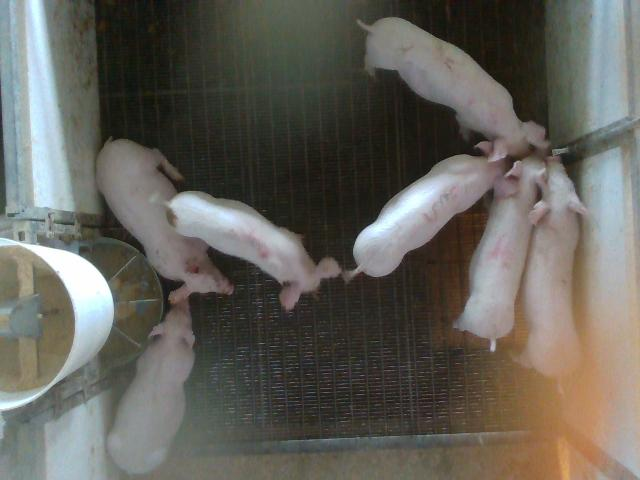pig-3: (345, 155, 518, 279)
pig-4: (454, 156, 546, 351)
pig-5: (169, 191, 341, 310)
